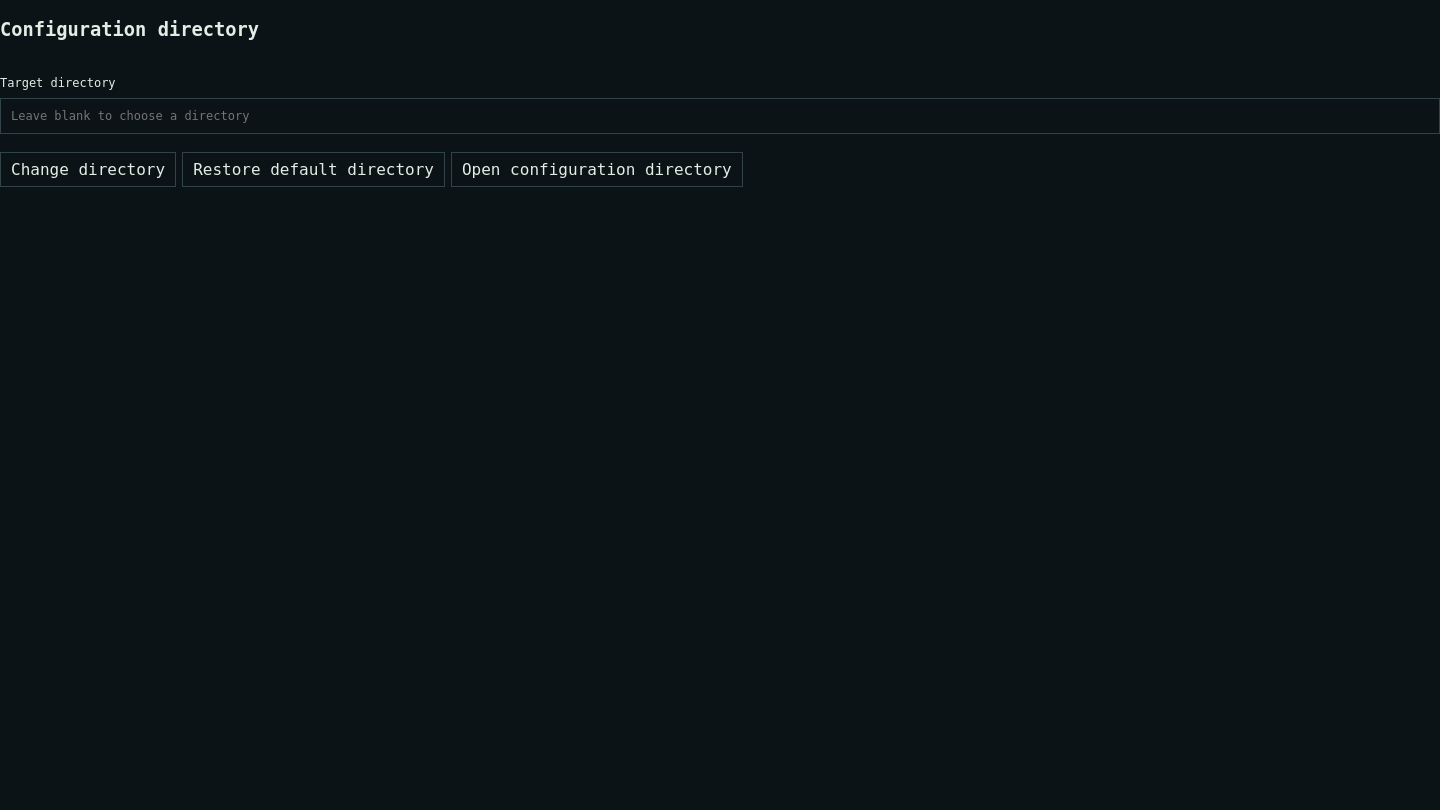
it: reset uses the native anchor and failed writes leave confirmation open
This screenshot has width=1440, height=810.
Click the button "Restore default directory": coordinates (314, 170) [182, 152, 445, 187]
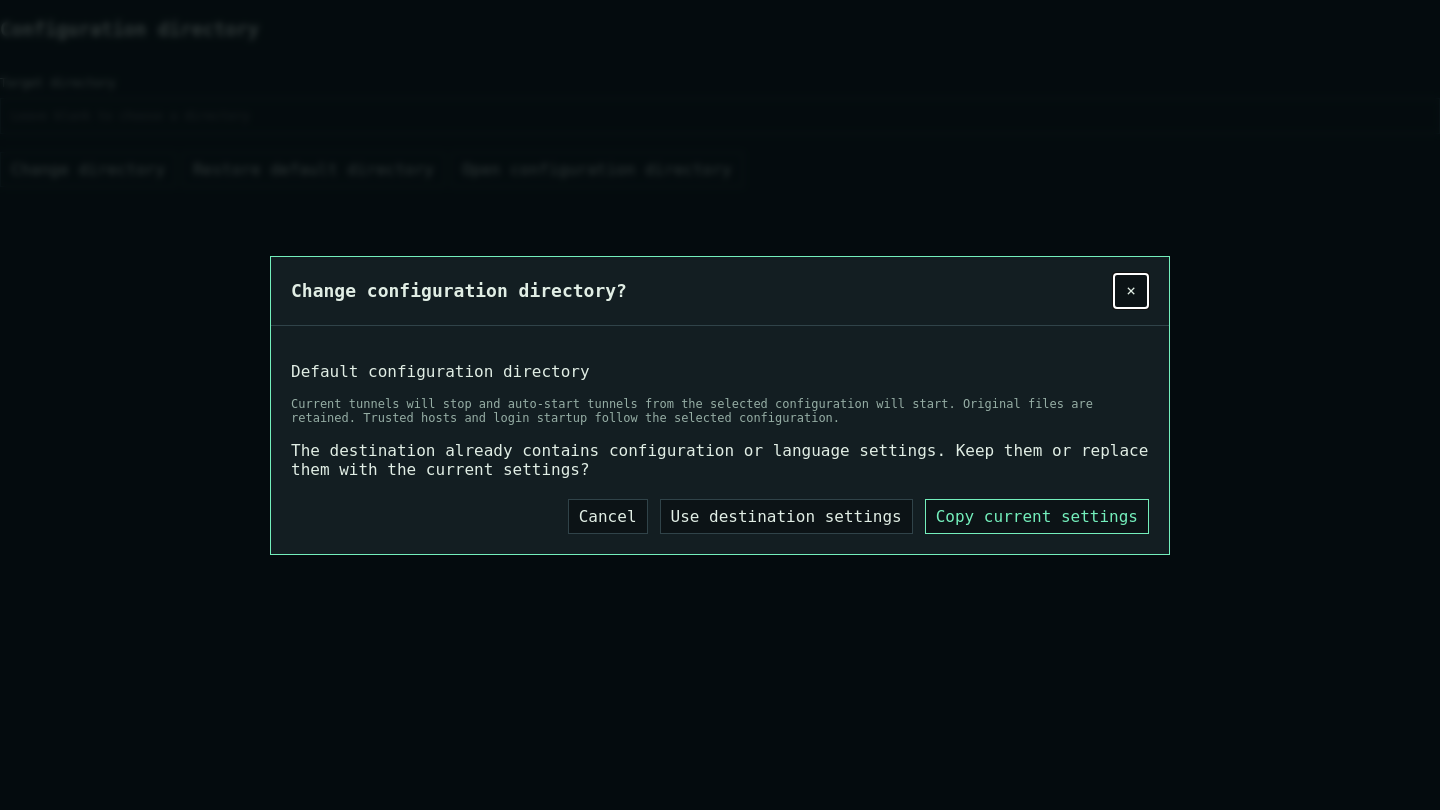
Click the button "Copy current settings": coordinates (1037, 516) [925, 498, 1149, 534]
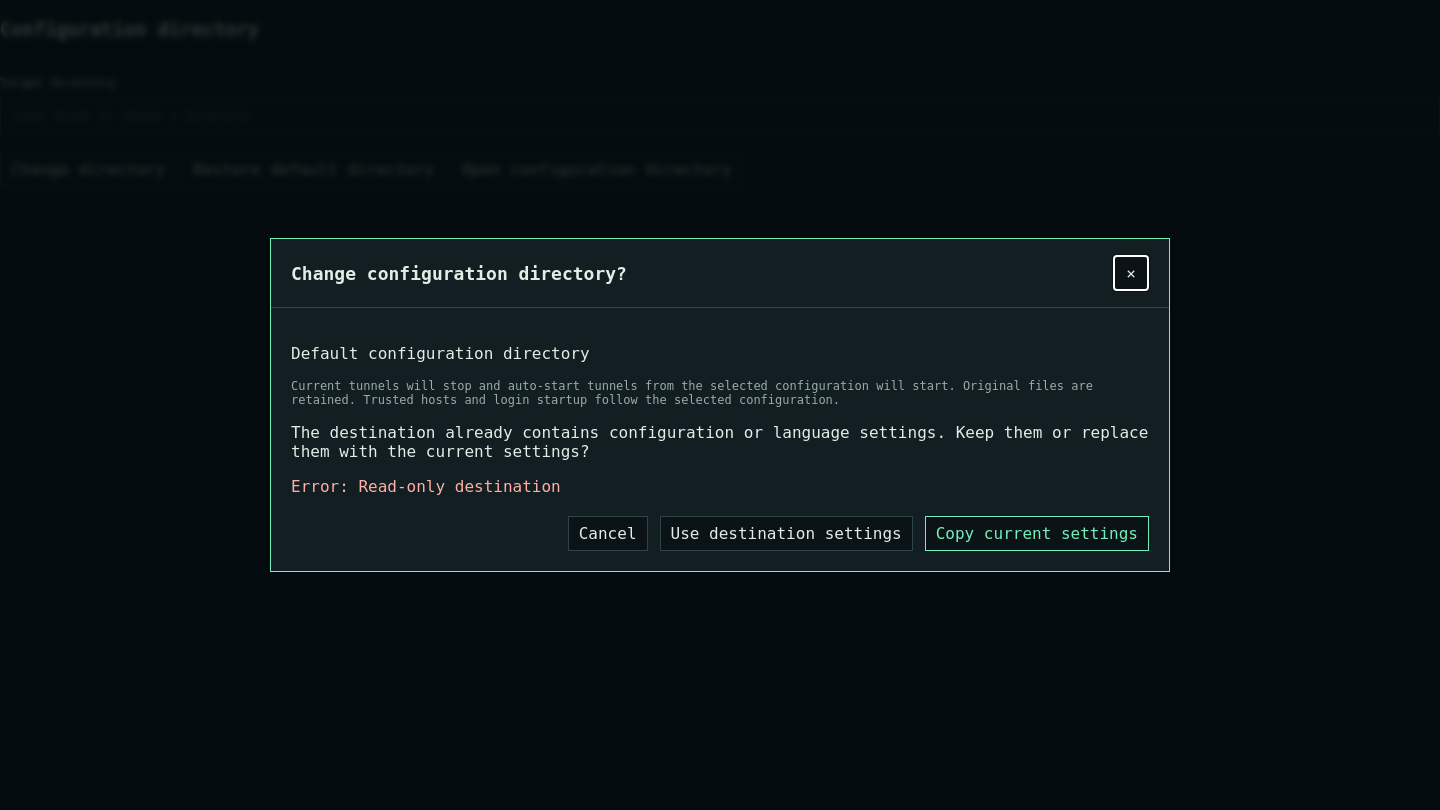
expect the message shows "Read-only destination": met, box [291, 477, 561, 496]
